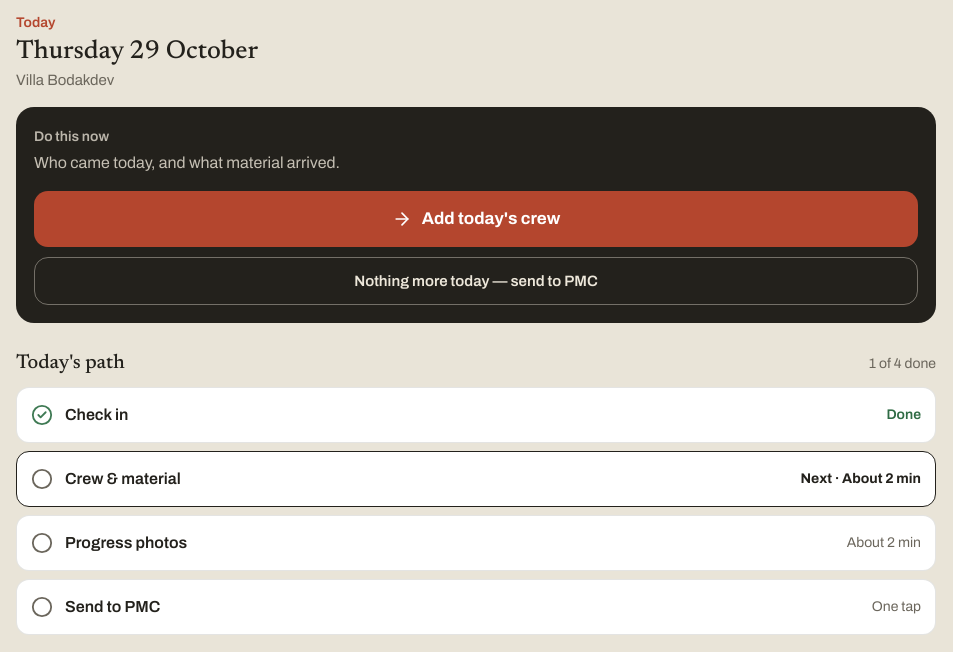
Scenario: U1 — the crew step, one trade at a time › "Nobody today" for every trade is an answer: Today reads the crew step as done
Step 1. Click the button with test id "today-action" → (476,219), box [34,191,918,247]
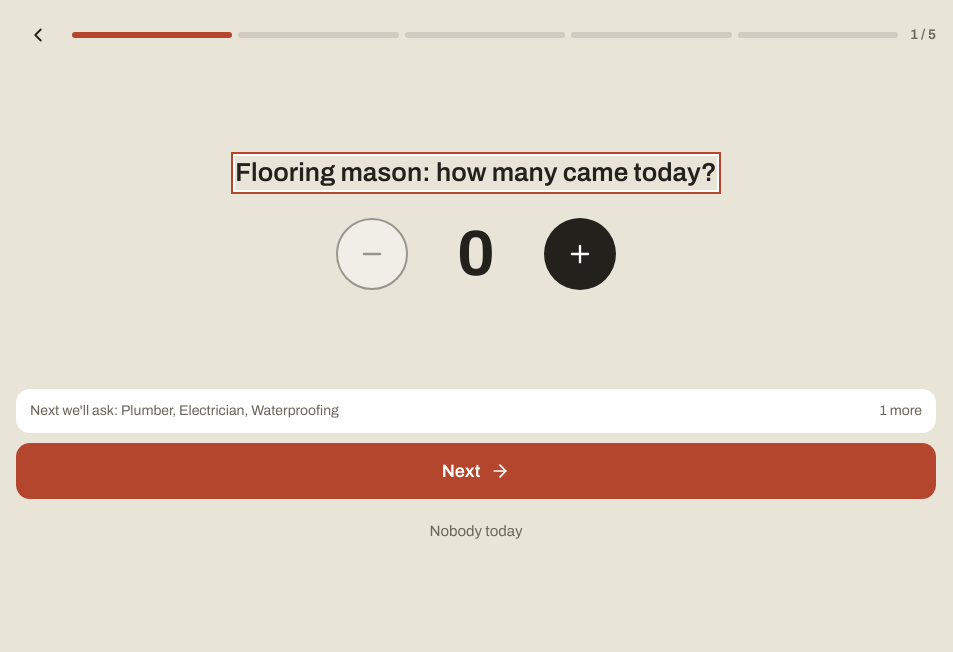
Step 2. Click the button with test id "crew-nobody" → (476,531), box [414,509,539,553]
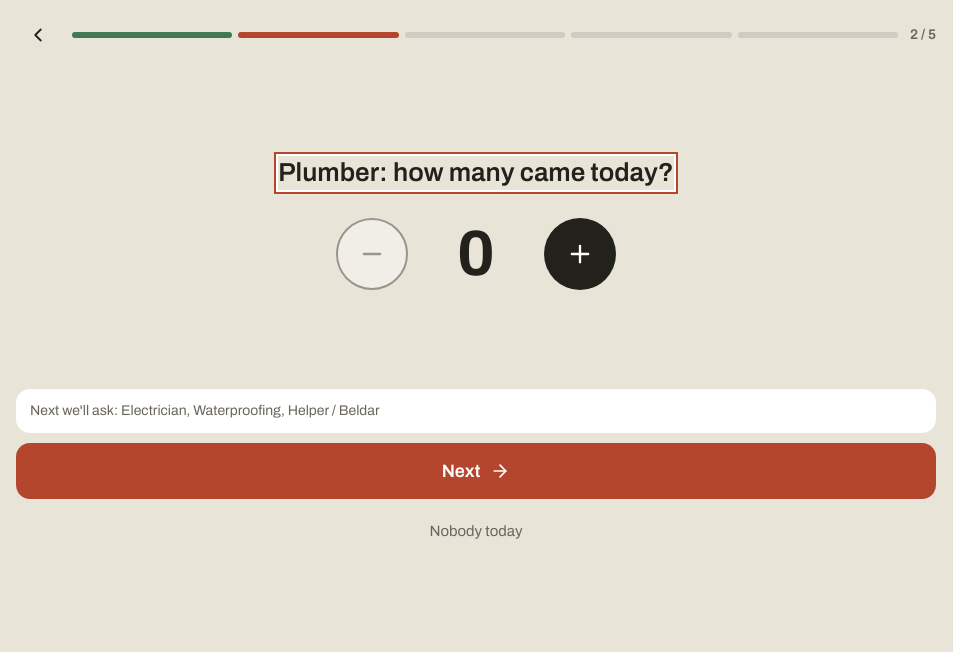
Step 3. Click the button with test id "crew-nobody" → (476,531), box [414,509,539,553]
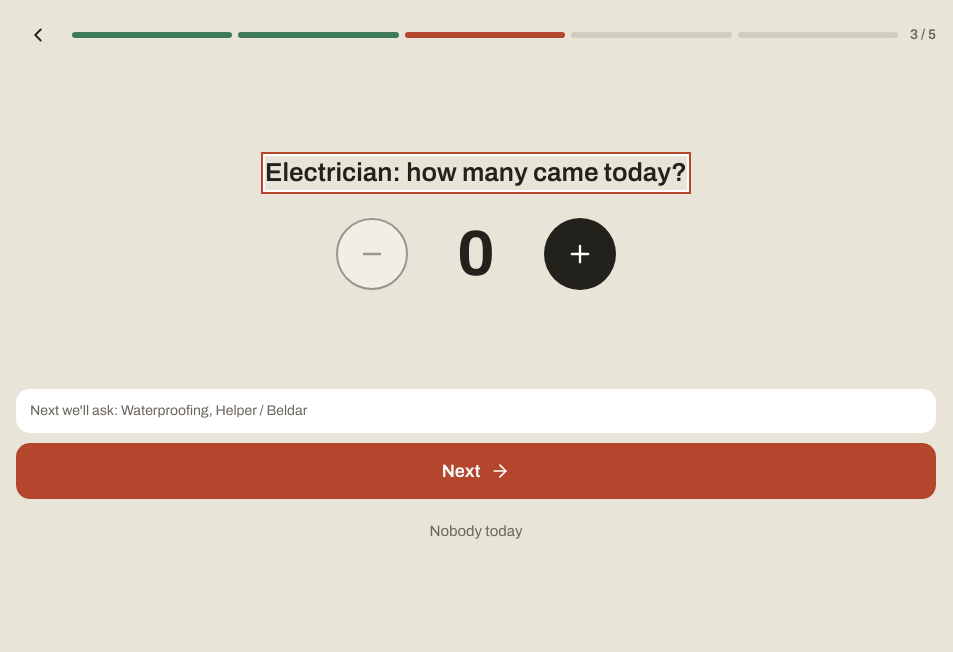
Step 4. Click the button with test id "crew-nobody" → (476,531), box [414,509,539,553]
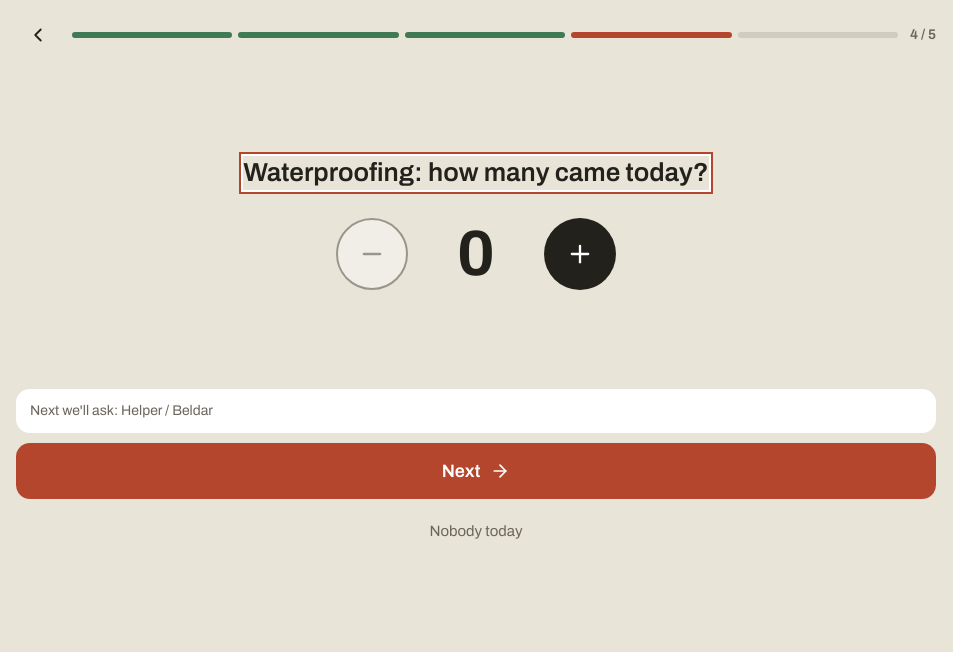
Step 5. Click the button with test id "crew-nobody" → (476,531), box [414,509,539,553]
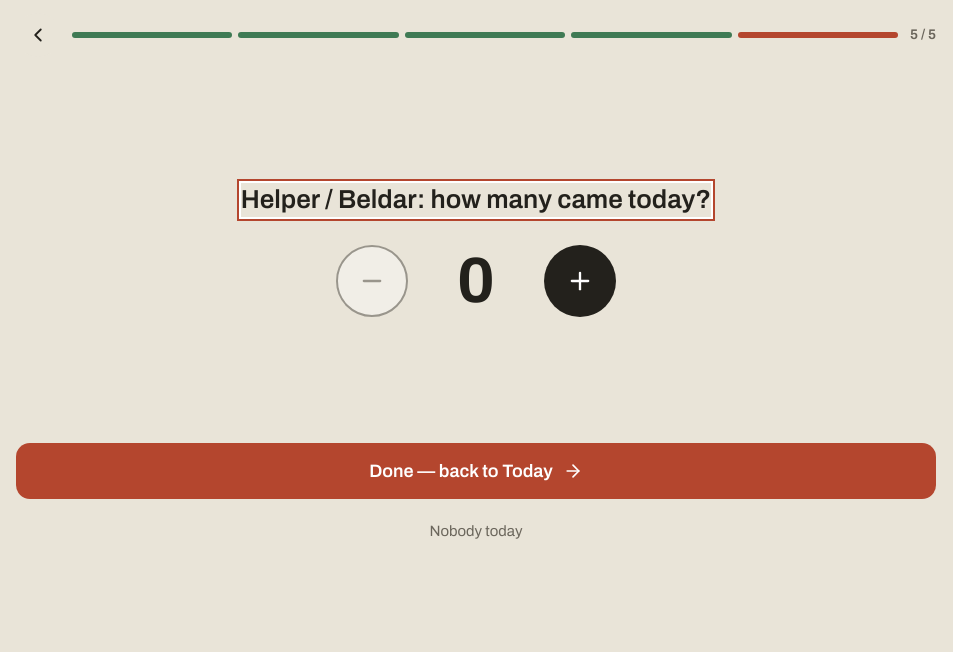
Step 6. Click the button with test id "crew-nobody" → (476,531), box [414,509,539,553]
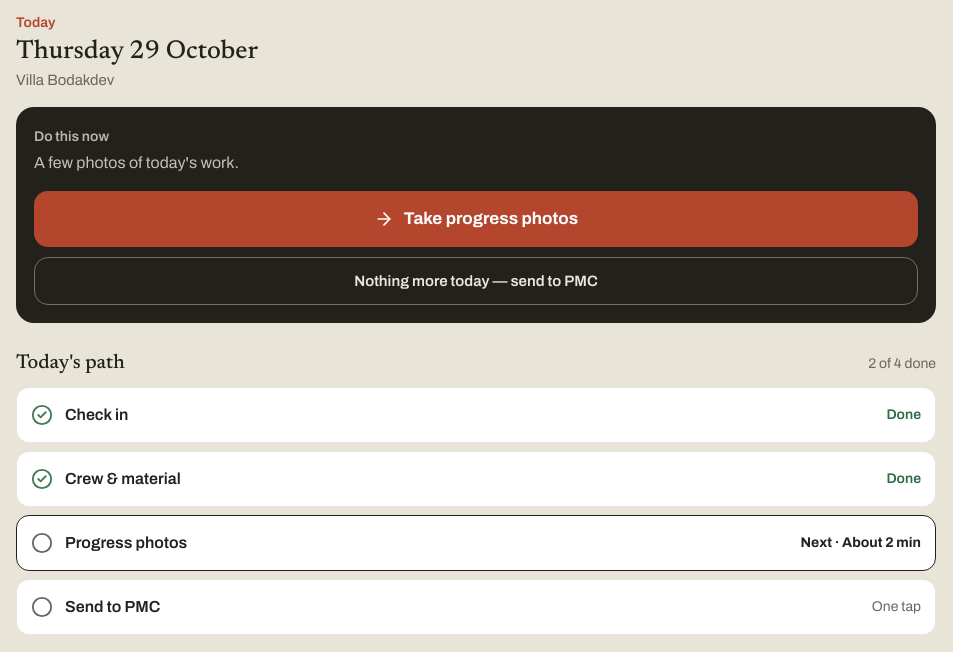
Check: the element with test id "crew-stepper" is gone
